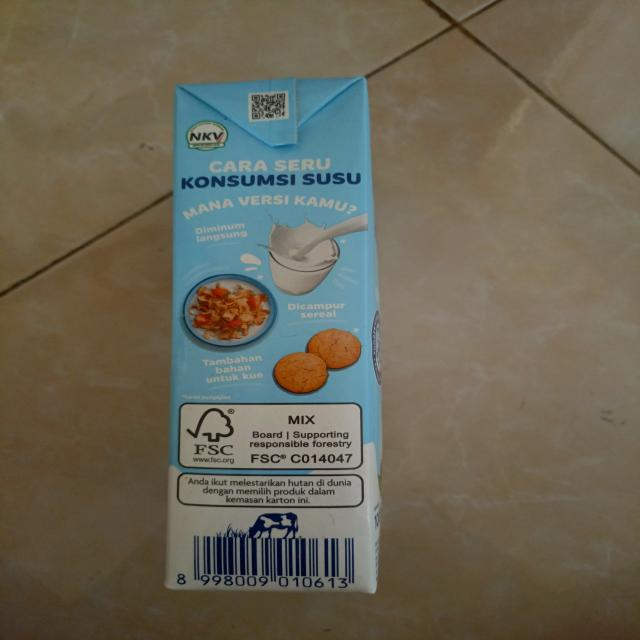ultramilk-full-cream: (167, 75, 383, 596)
